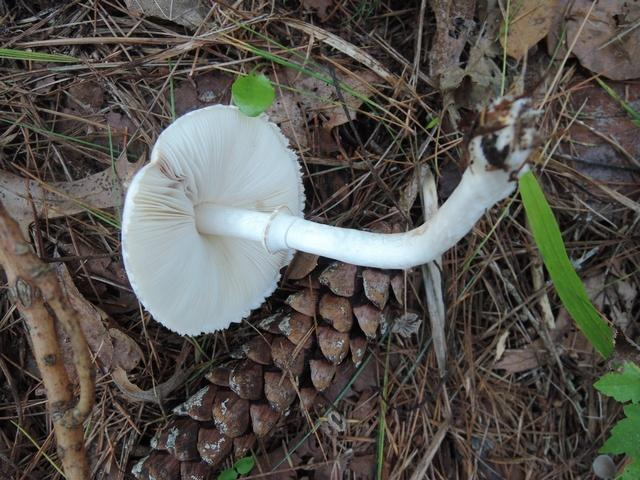poisonous_mushroom: (119, 93, 546, 338)
